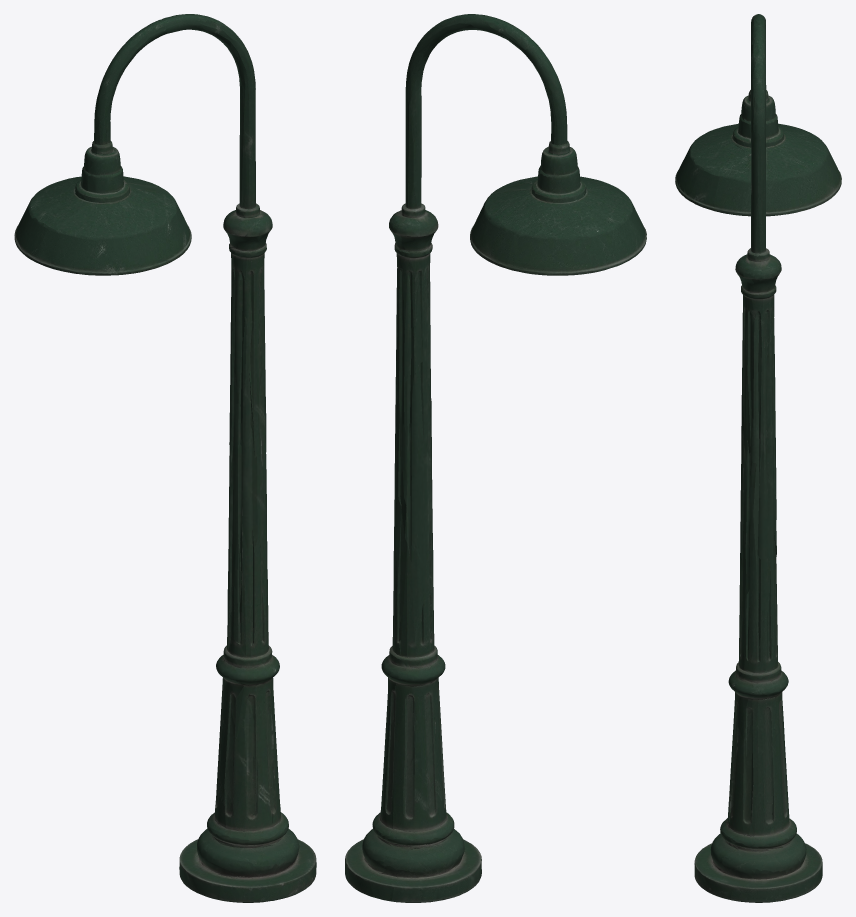
The model's file is lampione_braccio.glb.
The picture shows the model from 3 angles, left to right: view 1: azimuth 30°, elevation 25°; view 2: azimuth 150°, elevation 25°; view 3: azimuth 270°, elevation 25°; orthographic projection. The views are drawn at different scales.
Visible parts, largest first — view 1: Mesh_0; view 2: Mesh_0; view 3: Mesh_0.
Boxes of the visible parts, x1,y1,x2,y2 form: Mesh_0: (14, 14, 316, 902); Mesh_0: (345, 14, 646, 902); Mesh_0: (675, 14, 841, 902).
Bounding box in the file's own units: 0.6376 × 1.9 × 0.3501.
Materials: 1 (1 with a texture image).
